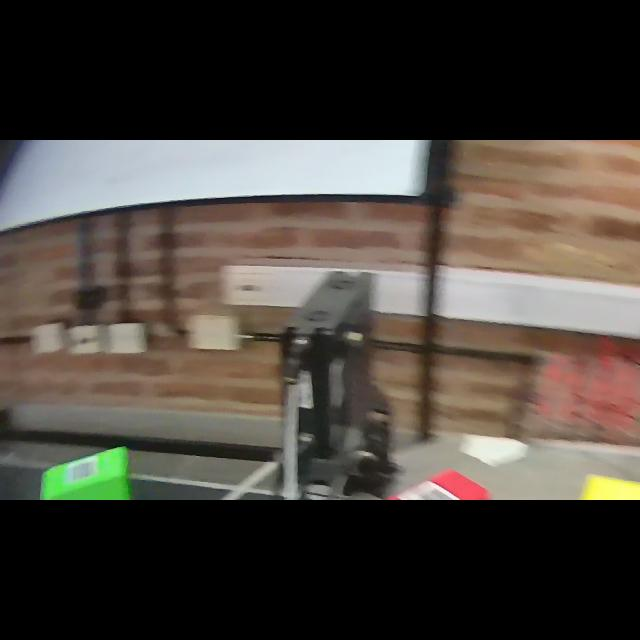greenBox: (38, 440, 148, 500)
redBox: (357, 460, 495, 500)
yellowBox: (568, 468, 640, 500)
